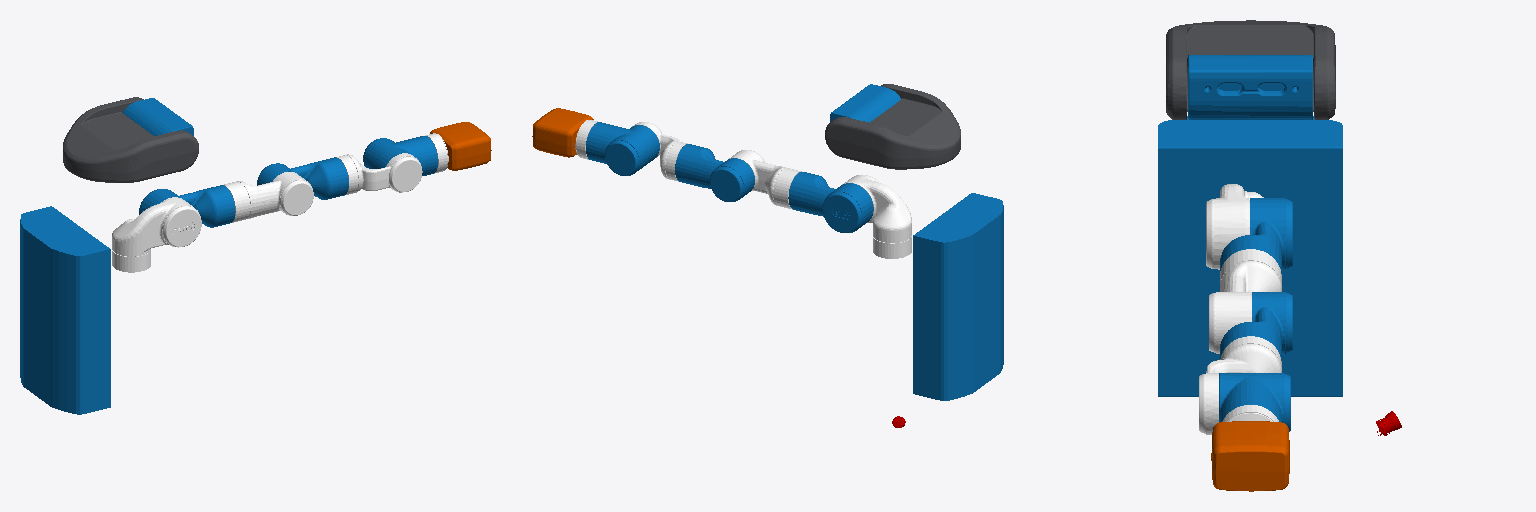
The robot description file, URDF, robot "fetch":
<?xml version="1.0" ?>
<robot name="fetch">
  <link name="base_link">
    <inertial>
      <origin rpy="1.56 0 0" xyz="-0.0036 0.0 0.0014" />
      <mass value="70.1294" />
      <inertia ixx="1.225" ixy="0.0099" ixz="0.0062" iyy="1.2853" iyz="-0.0034" izz="0.987" />
    </inertial>
    <visual>
      <origin rpy="0 0 0" xyz="0 0 0" />
      <geometry>
        <mesh filename="../meshes/base_link.dae" />
      </geometry>
      <material name="mat0">
        <color rgba="0.356 0.361 0.376 1" />
      </material>
    </visual>
    <collision>
      <origin rpy="0 0 0" xyz="0 0 0.2" />
      <geometry>
        <cylinder length="0.32" radius="0.285"/>
      </geometry>
    </collision>
    <collision>
      <origin rpy="1.56 0 0" xyz="0.1655 0.12 0.0325" />
      <geometry>
        <cylinder length="0.03" radius="0.03"/>
      </geometry>
    </collision>
    <collision>
      <origin rpy="1.56 0 0" xyz="0.1655 -0.12 0.0325" />
      <geometry>
        <cylinder length="0.03" radius="0.03"/>
      </geometry>
    </collision>
    <collision>
      <origin rpy="1.56 0 0" xyz="-0.21 0.12 0.0325" />
      <geometry>
        <cylinder length="0.03" radius="0.03"/>
      </geometry>
    </collision>
    <collision>
      <origin rpy="1.56 0 0" xyz="-0.21 -0.12 0.0325" />
      <geometry>
        <cylinder length="0.03" radius="0.03"/>
      </geometry>
    </collision>
  </link>
  <link name="r_wheel_link">
    <inertial>
      <origin rpy="0 0 0" xyz="0 0 0" />
      <mass value="4.3542" />
      <inertia ixx="0.0045" ixy="0" ixz="0" iyy="0.005" iyz="0" izz="0.0045" />
    </inertial>
    <visual>
      <origin rpy="0 0 0" xyz="0 0 0" />
      <geometry>
        <mesh filename="../meshes/r_wheel_link.STL" />
      </geometry>
      <material name="mat1">
        <color rgba="0.086 0.506 0.767 1" />
      </material>
    </visual>
    <collision>
      <origin rpy="1.56 0 0" xyz="0 0 0" />
      <geometry>
        <cylinder length="0.06" radius="0.06"/>
      </geometry>
    </collision>
  </link>
  <joint name="r_wheel_joint" type="continuous">
    <origin rpy="-6.123E-17 0 0" xyz="0.0012914 -0.18738 0.055325" />
    <parent link="base_link" />
    <child link="r_wheel_link" />
    <axis xyz="0 1 0" />
  <limit effort="8.85" velocity="17.4" /></joint>
  <link name="l_wheel_link">
    <inertial>
      <origin rpy="0 0 0" xyz="0 0 0" />
      <mass value="4.3542" />
      <inertia ixx="0.0045" ixy="0" ixz="0" iyy="0.005" iyz="0" izz="0.0045" />
    </inertial>
    <visual>
      <origin rpy="0 0 0" xyz="0 0 0" />
      <geometry>
        <mesh filename="../meshes/l_wheel_link.STL" />
      </geometry>
      <material name="mat2">
        <color rgba="0.086 0.506 0.767 1" />
      </material>
    </visual>
    <collision>
      <origin rpy="1.56 0 0" xyz="0 0 0" />
      <geometry>
        <cylinder length="0.06" radius="0.06"/>
      </geometry>
    </collision>
  </link>
  <joint name="l_wheel_joint" type="continuous">
    <origin rpy="-6.123E-17 0 0" xyz="0.0012914 0.18738 0.055325" />
    <parent link="base_link" />
    <child link="l_wheel_link" />
    <axis xyz="0 1 0" />
  <limit effort="8.85" velocity="17.4" /></joint>
  <link name="torso_lift_link">
    <inertial>
      <origin rpy="0 0 0" xyz="-0.0013 -0.0009 0.2935" />
      <mass value="10.7796" />
      <inertia ixx="0.3354" ixy="0.0" ixz="-0.0162" iyy="0.3354" iyz="-0.0006" izz="0.0954" />
    </inertial>
    <visual>
      <origin rpy="0 0 0" xyz="0 0 0" />
      <geometry>
        <mesh filename="../meshes/torso_lift_link.dae" />
      </geometry>
      <material name="math3">
        <color rgba="1 1 1 1" />
      </material>
    </visual>
    <collision>
      <origin rpy="0 0 0" xyz="-0.06 0.0 0.3" />
      <geometry>
        <box size="0.246 0.347 0.573"/>
      </geometry>
    </collision>
  </link>
  <joint name="torso_lift_joint" type="prismatic">
    <origin rpy="-6.123E-17 0 0" xyz="-0.086875 0 0.37743" />
    <parent link="base_link" />
    <child link="torso_lift_link" />
    <axis xyz="0 0 1" />
    <limit effort="450.0" lower="0" upper="0.38615" velocity="0.1" />
  <dynamics damping="100.0" /></joint>
  <link name="head_pan_link">
    <inertial>
      <origin rpy="0 0 0" xyz="0.0321 0.0161 0.0390" />
      <mass value="2.2556" />
      <inertia ixx="0.0129" ixy="0.0002" ixz="0.0007" iyy="0.0095" iyz="-0.0" izz="0.0184" />
    </inertial>
    <visual>
      <origin rpy="0 0 0" xyz="0 0 0" />
      <geometry>
        <mesh filename="../meshes/head_pan_link.dae" />
      </geometry>
      <material name="math4">
        <color rgba="0.356 0.361 0.376 1" />
      </material>
    </visual>
    <collision>
      <origin rpy="0 0 0" xyz="0.065 0 0.054" />
      <geometry>
        <box size="0.275 0.3 0.11"/>
      </geometry>
    </collision>
  </link>
  <joint name="head_pan_joint" type="revolute">
    <origin rpy="0 0 0" xyz="0.053125 0 0.603001417713939" />
    <parent link="torso_lift_link" />
    <child link="head_pan_link" />
    <axis xyz="0 0 1" />
  <limit effort="0.32" lower="-1.57" upper="1.57" velocity="1.57" /></joint>
  <link name="head_tilt_link">
    <inertial>
      <origin rpy="0 0 0" xyz="0.0081 0.0025 0.0113" />
      <mass value="0.9087" />
      <inertia ixx="0.0061" ixy="-0.0" ixz="0.0002" iyy="0.0014" iyz="-0.0001" izz="0.0061" />
    </inertial>
    <visual>
      <origin rpy="0 0 0" xyz="0 0 0" />
      <geometry>
        <mesh filename="../meshes/head_tilt_link.dae" />
      </geometry>
      <material name="5">
        <color rgba="0.086 0.506 0.767 1" />
      </material>
    </visual>
  </link>
  <joint name="head_tilt_joint" type="revolute">
    <origin rpy="0 0 0" xyz="0.14253 0 0.057999" />
    <parent link="head_pan_link" />
    <child link="head_tilt_link" />
    <axis xyz="0 1 0" />
    <limit effort="0.68" lower="-0.76" upper="1.45" velocity="1.57" />
  </joint>
  <link name="shoulder_pan_link">
    <inertial>
      <origin rpy="0 0 0" xyz="0.0927 -0.0056 0.0564" />
      <mass value="2.5587" />
      <inertia ixx="0.0043" ixy="-0.0001" ixz="0.001" iyy="0.0087" iyz="-0.0001" izz="0.0087" />
    </inertial>
    <visual>
      <origin rpy="0 0 0" xyz="0 0 0" />
      <geometry>
        <mesh filename="../meshes/shoulder_pan_link.dae" />
      </geometry>
      <material name="6">
        <color rgba="1 1 1 1" />
      </material>
    </visual>
  </link>
  <joint name="shoulder_pan_joint" type="revolute">
    <origin rpy="0 0 0" xyz="0.119525 0 0.34858" />
    <parent link="torso_lift_link" />
    <child link="shoulder_pan_link" />
    <axis xyz="0 0 1" />
    <dynamics damping="1.0" />
    <limit effort="33.82" lower="-1.6056" upper="1.6056" velocity="1.256" />
  </joint>
  <link name="shoulder_lift_link">
    <inertial>
      <origin rpy="0 0 0" xyz="0.1432 0.0072 -0.0001" />
      <mass value="2.6615" />
      <inertia ixx="0.0028" ixy="-0.0021" ixz="-0.0" iyy="0.0111" iyz="-0.0" izz="0.0112" />
    </inertial>
    <visual>
      <origin rpy="0 0 0" xyz="0 0 0" />
      <geometry>
        <mesh filename="../meshes/shoulder_lift_link.dae" />
      </geometry>
      <material name="7">
        <color rgba="0.086 0.506 0.767 1" />
      </material>
    </visual>
    <collision>
      <origin rpy="0 0 0" xyz="0 0 0" />
      <geometry>
        <mesh filename="../meshes/shoulder_lift_link_collision.obj" />
      </geometry>
    </collision>
  </link>
  <joint name="shoulder_lift_joint" type="revolute">
    <origin rpy="0 0 0" xyz="0.117 0 0.0599999999999999" />
    <parent link="shoulder_pan_link" />
    <child link="shoulder_lift_link" />
    <axis xyz="0 1 0" />
    <dynamics damping="1.0" />
    <limit effort="131.76" lower="-1.221" upper="1.518" velocity="1.454" />
  </joint>
  <link name="upperarm_roll_link">
    <inertial>
      <origin rpy="0 0 0" xyz="0.1165 0.0014 0.0000" />
      <mass value="2.3311" />
      <inertia ixx="0.0019" ixy="-0.0001" ixz="0.0" iyy="0.0045" iyz="0.0" izz="0.0047" />
    </inertial>
    <visual>
      <origin rpy="0 0 0" xyz="0 0 0" />
      <geometry>
        <mesh filename="../meshes/upperarm_roll_link.dae" />
      </geometry>
      <material name="8">
        <color rgba="1 1 1 1" />
      </material>
    </visual>
    <collision>
      <origin rpy="0 0 0" xyz="0 0 0" />
      <geometry>
        <mesh filename="../meshes/upperarm_roll_link_collision.obj" />
      </geometry>
    </collision>
  </link>
  <joint name="upperarm_roll_joint" type="continuous">
    <origin rpy="0 0 0" xyz="0.219 0 0" />
    <parent link="shoulder_lift_link" />
    <child link="upperarm_roll_link" />
    <axis xyz="1 0 0" />
    <dynamics damping="5.0" />
    <limit effort="76.94" velocity="1.571" />
  </joint>
  <link name="elbow_flex_link">
    <inertial>
      <origin rpy="0 0 0" xyz="0.1279 0.0073 0.0000" />
      <mass value="2.1299" />
      <inertia ixx="0.0024" ixy="-0.0016" ixz="0.0" iyy="0.0082" iyz="-0.0" izz="0.0084" />
    </inertial>
    <visual>
      <origin rpy="0 0 0" xyz="0 0 0" />
      <geometry>
        <mesh filename="../meshes/elbow_flex_link.dae" />
      </geometry>
      <material name="9">
        <color rgba="0.086 0.506 0.767 1" />
      </material>
    </visual>
    <collision>
      <origin rpy="0 0 0" xyz="0 0 0" />
      <geometry>
        <mesh filename="../meshes/elbow_flex_link_collision.obj" />
      </geometry>
    </collision>
  </link>
  <joint name="elbow_flex_joint" type="revolute">
    <origin rpy="0 0 0" xyz="0.133 0 0" />
    <parent link="upperarm_roll_link" />
    <child link="elbow_flex_link" />
    <axis xyz="0 1 0" />
    <dynamics damping="1.0" />
    <limit effort="66.18" lower="-2.251" upper="2.251" velocity="1.521" />
  </joint>
  <link name="forearm_roll_link">
    <inertial>
      <origin rpy="0 0 0" xyz="0.1097 -0.0266 0.0000" />
      <mass value="1.6563" />
      <inertia ixx="0.0016" ixy="-0.0003" ixz="0.0" iyy="0.003" iyz="-0.0" izz="0.0035" />
    </inertial>
    <visual>
      <origin rpy="0 0 0" xyz="0 0 0" />
      <geometry>
        <mesh filename="../meshes/forearm_roll_link.dae" />
      </geometry>
      <material name="10">
        <color rgba="1 1 1 1" />
      </material>
    </visual>
    <collision>
      <origin rpy="0 0 0" xyz="0 0 0" />
      <geometry>
        <mesh filename="../meshes/forearm_roll_link_collision.obj" />
      </geometry>
    </collision>
  </link>
  <joint name="forearm_roll_joint" type="continuous">
    <origin rpy="0 0 0" xyz="0.197 0 0" />
    <parent link="elbow_flex_link" />
    <child link="forearm_roll_link" />
    <axis xyz="1 0 0" />
    <dynamics damping="5.0" />
    <limit effort="29.35" velocity="1.571" />
  </joint>
  <link name="wrist_flex_link">
    <inertial>
      <origin rpy="0 0 0" xyz="0.0882 0.0009 -0.0001" />
      <mass value="1.725" />
      <inertia ixx="0.0018" ixy="-0.0001" ixz="-0.0" iyy="0.0042" iyz="0.0" izz="0.0042" />
    </inertial>
    <visual>
      <origin rpy="0 0 0" xyz="0 0 0" />
      <geometry>
        <mesh filename="../meshes/wrist_flex_link.dae" />
      </geometry>
      <material name="11">
        <color rgba="0.086 0.506 0.767 1" />
      </material>
    </visual>
    <collision>
      <origin rpy="0 0 0" xyz="0 0 0" />
      <geometry>
        <mesh filename="../meshes/wrist_flex_link_collision.obj" />
      </geometry>
    </collision>
  </link>
  <joint name="wrist_flex_joint" type="revolute">
    <origin rpy="0 0 0" xyz="0.1245 0 0" />
    <parent link="forearm_roll_link" />
    <child link="wrist_flex_link" />
    <axis xyz="0 1 0" />
    <dynamics damping="1.0" />
    <limit effort="25.7" lower="-2.16" upper="2.16" velocity="2.268" />
  </joint>
  <link name="wrist_roll_link">
    <inertial>
      <origin rpy="0 0 0" xyz="0.0095 0.0004 -0.0002" />
      <mass value="0.1354" />
      <inertia ixx="0.0001" ixy="0.0" ixz="0.0" iyy="0.0001" iyz="0.0" izz="0.0001" />
    </inertial>
    <visual>
      <origin rpy="0 0 0" xyz="0 0 0" />
      <geometry>
        <mesh filename="../meshes/wrist_roll_link.dae" />
      </geometry>
      <material name="12">
        <color rgba="1 1 1 1" />
      </material>
    </visual>
    <collision>
      <origin rpy="0 0 0" xyz="0 0 0" />
      <geometry>
        <mesh filename="../meshes/wrist_roll_link_collision.obj" />
      </geometry>
    </collision>
  </link>
  <joint name="wrist_roll_joint" type="continuous">
    <origin rpy="0 0 0" xyz="0.1385 0 0" />
    <parent link="wrist_flex_link" />
    <child link="wrist_roll_link" />
    <axis xyz="1 0 0" />
    <limit effort="7.36" velocity="2.268" />
    <dynamics damping="5.0" />
  </joint>
  <link name="gripper_link">
    <inertial>
      <origin rpy="0 0 0" xyz="-0.0900 -0.0001 -0.0017" />
      <mass value="1.5175" />
      <inertia ixx="0.0013" ixy="-0.0" ixz="0.0" iyy="0.0019" iyz="-0.0" izz="0.0024" />
    </inertial>
    <visual>
      <origin rpy="0 0 0" xyz="0 0 0" />
      <geometry>
        <mesh filename="../meshes/gripper_link.dae" />
      </geometry>
    </visual>
    <collision>
      <origin rpy="0 0 0" xyz="0 0 0" />
      <geometry>
        <mesh filename="../meshes/gripper_link_collision.obj" />
      </geometry>
    </collision>
  </link>
  <joint name="gripper_axis" type="fixed">
    <origin rpy="0 0 0" xyz="0.16645 0 0" />
    <parent link="wrist_roll_link" />
    <child link="gripper_link" />
    <axis xyz="0 1 0" />
  </joint>
  <link name="r_gripper_finger_link">
    <inertial>
      <origin rpy="0 0 0" xyz="-0.01 0 0" />
      <mass value="0.0798" />
      <inertia ixx="0.002" ixy="0" ixz="0" iyy="0" iyz="0" izz="0" />
    </inertial>
    <visual>
      <origin rpy="0 0 0" xyz="0 0.101425 0" />
      <geometry>
        <mesh filename="../meshes/r_gripper_finger_link.STL" />
      </geometry>
      <material name="13">
        <color rgba="0.356 0.361 0.376 1" />
      </material>
    </visual>
    <collision>
      <origin rpy="0 0 0" xyz="0.0 -0.0075 0.0" />
      <geometry>
        <box size="0.06 0.015 0.027"/>
      </geometry>
    </collision>
  </link>
  <joint name="r_gripper_finger_joint" type="prismatic">
    <origin rpy="0 0 0" xyz="0 0.015425 0" />
    <parent link="gripper_link" />
    <child link="r_gripper_finger_link" />
    <axis xyz="0 1 0" />
  <limit effort="60" lower="0.0" upper="0.05" velocity="0.05" /><dynamics damping="100.0" /></joint>
  <link name="l_gripper_finger_link">
    <inertial>
      <origin rpy="0 0 0" xyz="-0.01 0 0" />
      <mass value="0.0798" />
      <inertia ixx="0.002" ixy="0" ixz="0" iyy="0" iyz="0" izz="0" />
    </inertial>
    <visual>
      <origin rpy="0 0 0" xyz="0 -0.101425 0" />
      <geometry>
        <mesh filename="../meshes/l_gripper_finger_link.STL" />
      </geometry>
      <material name="14">
        <color rgba="0.356 0.361 0.376 1" />
      </material>
    </visual>
    <collision>
      <origin rpy="0 0 0" xyz="0.0 0.0075 0.0" />
      <geometry>
        <box size="0.06 0.015 0.027"/>
      </geometry>
    </collision>
  </link>
  <joint name="l_gripper_finger_joint" type="prismatic">
    <origin rpy="0 0 0" xyz="0 0 0" />
    <parent link="gripper_link" />
    <child link="l_gripper_finger_link" />
    <axis xyz="0 -1 0" />
  <limit effort="60" lower="0.0" upper="0.05" velocity="0.05" /><dynamics damping="100.0" /></joint>
  <link name="bellows_link">
    <inertial>
      <origin rpy="0 0 0" xyz="0.0191320000286228 -1.67219873481315E-16 -0.134861625443387" />
      <mass value="0.169374038216602" />
      <inertia ixx="0.00331159128762117" ixy="-8.9230964321455E-18" ixz="-5.38622201018293E-08" iyy="0.00174447292786627" iyz="-8.06964979976371E-17" izz="0.00169417568121457" />
    </inertial>
    <visual>
      <origin rpy="0 0 0" xyz="0 0 0" />
      <geometry>
        <mesh filename="../meshes/bellows_link.STL" />
      </geometry>
      <material name="15">
        <color rgba="0 0 0 1" />
      </material>
    </visual>
    <collision>
      <origin rpy="0 0 0" xyz="0 0 0" />
      <geometry>
        <mesh filename="../meshes/bellows_link_collision.obj" />
      </geometry>
    </collision>
  </link>
  <joint name="bellows_joint" type="fixed">
    <origin rpy="0 0 0" xyz="-0.1 0 0.5" />
    <parent link="base_link" />
    <child link="bellows_link" />
  </joint>
  <link name="bellows_link2">
    <inertial>
      <origin rpy="0 0 0" xyz="0.0191320000286228 -1.67219873481315E-16 -0.134861625443387" />
      <mass value="0.169374038216602" />
      <inertia ixx="0.00331159128762117" ixy="-8.9230964321455E-18" ixz="-5.38622201018293E-08" iyy="0.00174447292786627" iyz="-8.06964979976371E-17" izz="0.00169417568121457" />
    </inertial>
    <visual>
      <origin rpy="0 0 0" xyz="0 0 0" />
      <geometry>
        <mesh filename="../meshes/bellows_link.STL" />
      </geometry>
      <material name="16">
        <color rgba="0 0 0 1" />
      </material>
    </visual>
    <collision>
      <origin rpy="0 0 0" xyz="0 0 0" />
      <geometry>
        <mesh filename="../meshes/bellows_link_collision.obj" />
      </geometry>
    </collision>
  </link>
  <joint name="bellows_joint2" type="fixed">
    <origin rpy="0 0 0" xyz="0 0 0" />
    <parent link="torso_lift_link" />
    <child link="bellows_link2" />
  </joint>
  <link name="estop_link">
    <inertial>
      <origin rpy="0 0 0" xyz="0.002434512737072 -0.00330608315239905 0.00665139196650039" />
      <mass value="0.00196130439134723" />
      <inertia ixx="3.02810026604417E-07" ixy="-1.5862023118056E-08" ixz="3.16561396557437E-08" iyy="2.93322917127605E-07" iyz="-4.28833522751273E-08" izz="2.28513272627183E-07" />
    </inertial>
    <visual>
      <origin rpy="0 0 0" xyz="0 0 0" />
      <geometry>
        <mesh filename="../meshes/estop_link.dae" />
      </geometry>
      <material name="17">
        <color rgba="0.8 0 0 1" />
      </material>
    </visual>
  </link>
  <joint name="estop_joint" type="fixed">
    <origin rpy="1.5708 0 0" xyz="-0.12465 0.23892 0.31127" />
    <parent link="base_link" />
    <child link="estop_link" />
    <axis xyz="0 0 0" />
  </joint>
  <link name="laser_link">
    <inertial>
      <origin rpy="0 0 0" xyz="-0.0306228970175641 0.0007091682908278 0.0551974119471302" />
      <mass value="0.00833634573995571" />
      <inertia ixx="1.01866461240801E-06" ixy="-5.88447626567756E-08" ixz="7.83857244757914E-08" iyy="5.10039589974707E-07" iyz="-7.12664289617235E-09" izz="1.28270671527309E-06" />
    </inertial>
    <visual>
      <origin rpy="0 0 0" xyz="0 0 0" />
      <geometry>
        <mesh filename="../meshes/laser_link.STL" />
      </geometry>
      <material name="18">
        <color rgba="0.792156862745098 0.819607843137255 0.933333333333333 1" />
      </material>
    </visual>
  </link>
  <joint name="laser_joint" type="fixed">
    <origin rpy="3.14159265359 0 0" xyz="0.235 0 0.2878" />
    <parent link="base_link" />
    <child link="laser_link" />
    <axis xyz="0 0 0" />
  </joint>
  <link name="torso_fixed_link">
    <inertial>
      <origin rpy="0 0 0" xyz="-0.0722 0.0057 0.2656" />
      <mass value="130.2775" />
      <inertia ixx="0.3861" ixy="0.0015" ixz="-0.0102" iyy="0.3388" iyz="0.0117" izz="0.1018" />
    </inertial>
    <visual>
      <origin rpy="0 0 0" xyz="0 0 0" />
      <geometry>
        <mesh filename="../meshes/torso_fixed_link.dae" />
      </geometry>
      <material name="">
        <color rgba="0.086 0.506 0.767 1" />
      </material>
    </visual>
  </link>
  <joint name="torso_fixed_joint" type="fixed">
    <origin rpy="-6.12303176911189E-17 0 0" xyz="-0.086875 0 0.377425" />
    <parent link="base_link" />
    <child link="torso_fixed_link" />
    <axis xyz="0 1 0" />
  </joint>
  <link name="head_camera_link" />
  <joint name="head_camera_joint" type="fixed">
    <origin rpy="0 0 0" xyz="0.055 0 0.0225" />
    <parent link="head_tilt_link" />
    <child link="head_camera_link" />
  </joint>
  <link name="head_camera_rgb_frame" />
  <joint name="head_camera_rgb_joint" type="fixed">
    <origin rpy="0 0 0" xyz="0 0.02 0" />
    <parent link="head_camera_link" />
    <child link="head_camera_rgb_frame" />
  </joint>
  <link name="head_camera_rgb_optical_frame" />
  <joint name="head_camera_rgb_optical_joint" type="fixed">
    <origin rpy="-1.57079632679 0 -1.57079632679" xyz="0 0 0" />
    <parent link="head_camera_rgb_frame" />
    <child link="head_camera_rgb_optical_frame" />
  </joint>
  <link name="head_camera_depth_frame" />
  <joint name="head_camera_depth_joint" type="fixed">
    <origin rpy="0 0 0" xyz="0 0.045 0" />
    <parent link="head_camera_link" />
    <child link="head_camera_depth_frame" />
  </joint>
  <link name="head_camera_depth_optical_frame" />
  <joint name="head_camera_depth_optical_joint" type="fixed">
    <origin rpy="-1.57079632679 0 -1.57079632679" xyz="0 0 0" />
    <parent link="head_camera_depth_frame" />
    <child link="head_camera_depth_optical_frame" />
  </joint>
  <!-- ee_link: virtual -->
  <joint name="virtual_ee_joint" type="fixed">
    <parent link="wrist_roll_link"/>
    <child link="virtual_ee_link"/>
    <origin rpy="0 0 0" xyz="0 0 0.045"/>
  </joint>
  <link name="virtual_ee_link">
    <inertial>
      <origin rpy="0 0 0" xyz="0 0 0"/>
      <mass value="0"/>
      <inertia ixx="0" ixy="0" ixz="0" iyy="0" iyz="0" izz="0"/>
    </inertial>
  </link>
</robot>

--- What the picture shows (computed from the rendered views, not written in the file) ---
The picture shows the robot from 3 angles, left to right: view 1: azimuth 30°, elevation 25°; view 2: azimuth 150°, elevation 25°; view 3: azimuth 270°, elevation 25°; orthographic projection.
Model fetch with 27 links and 26 joints (6 revolute, 5 continuous, 3 prismatic, 12 fixed), rooted at base_link, posed all joints at 0.
Visible links, largest first — view 1: torso_fixed_link, head_pan_link, shoulder_pan_link, upperarm_roll_link, forearm_roll_link, elbow_flex_link, gripper_link, shoulder_lift_link, wrist_flex_link, head_tilt_link; view 2: torso_fixed_link, head_pan_link, shoulder_lift_link, elbow_flex_link, wrist_flex_link, shoulder_pan_link, gripper_link, upperarm_roll_link, head_tilt_link, forearm_roll_link; view 3: torso_fixed_link, head_pan_link, head_tilt_link, gripper_link, upperarm_roll_link, forearm_roll_link, shoulder_lift_link, wrist_flex_link, shoulder_pan_link, elbow_flex_link, wrist_roll_link.
Boxes of the visible links, bbox=[...] form: torso_fixed_link: bbox=[20, 206, 110, 414]; head_pan_link: bbox=[63, 97, 198, 182]; shoulder_pan_link: bbox=[112, 197, 201, 272]; upperarm_roll_link: bbox=[224, 172, 313, 222]; forearm_roll_link: bbox=[336, 153, 422, 195]; elbow_flex_link: bbox=[257, 157, 348, 199]; gripper_link: bbox=[430, 122, 491, 170]; shoulder_lift_link: bbox=[139, 185, 235, 227]; wrist_flex_link: bbox=[363, 136, 437, 175]; head_tilt_link: bbox=[123, 98, 193, 135]; torso_fixed_link: bbox=[913, 193, 1003, 400]; head_pan_link: bbox=[825, 84, 960, 169]; shoulder_lift_link: bbox=[788, 172, 873, 232]; elbow_flex_link: bbox=[675, 144, 754, 201]; wrist_flex_link: bbox=[586, 122, 659, 175]; shoulder_pan_link: bbox=[842, 175, 911, 258]; gripper_link: bbox=[532, 108, 593, 157]; upperarm_roll_link: bbox=[729, 150, 801, 209]; head_tilt_link: bbox=[830, 84, 900, 122]; forearm_roll_link: bbox=[632, 122, 687, 181]; torso_fixed_link: bbox=[1158, 116, 1342, 396]; head_pan_link: bbox=[1166, 20, 1335, 119]; head_tilt_link: bbox=[1188, 55, 1312, 119]; gripper_link: bbox=[1211, 421, 1289, 491]; upperarm_roll_link: bbox=[1209, 249, 1281, 353]; forearm_roll_link: bbox=[1199, 336, 1281, 434]; shoulder_lift_link: bbox=[1220, 198, 1292, 273]; wrist_flex_link: bbox=[1219, 373, 1290, 431]; shoulder_pan_link: bbox=[1206, 184, 1263, 269]; elbow_flex_link: bbox=[1220, 292, 1292, 360]; wrist_roll_link: bbox=[1222, 405, 1278, 421].
Bounding box of the posed robot: 1.35 × 0.4087 × 0.806 m (x, y, z).
Meshes: 20 distinct files referenced, 12 mesh visuals loaded (12 Collada DAE); not drawn: 9 (reference not matched to a file when rendering).